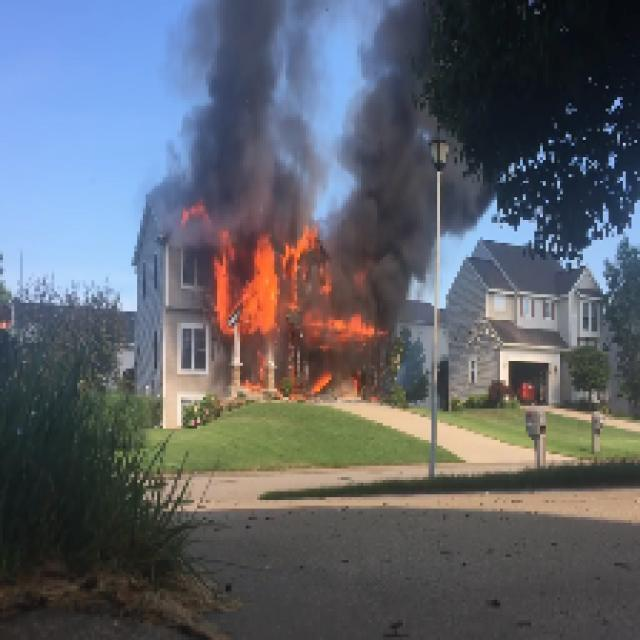Fire: (208, 234, 334, 337)
Smoke: (157, 3, 334, 226), (343, 3, 428, 300)
